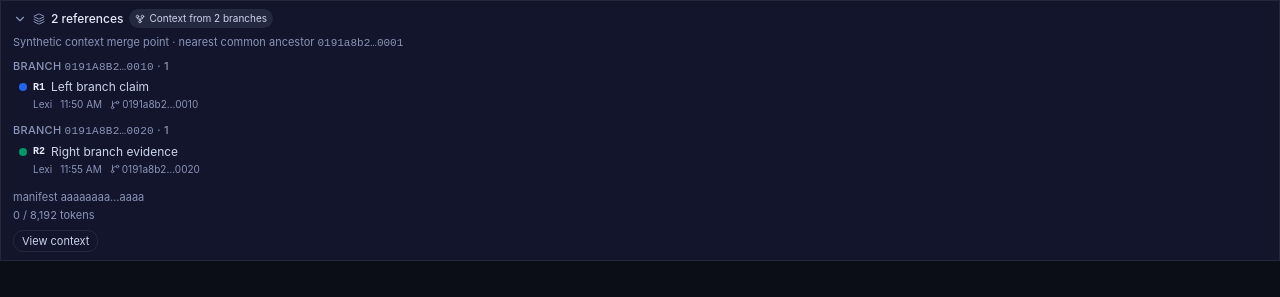
Test: ReferenceInspectorPanel — View context › fetches the provenance endpoint exactly once and renders its answer
Click the button with test id "reference-view-context". click: (56, 241)
box: [13,230,98,252]
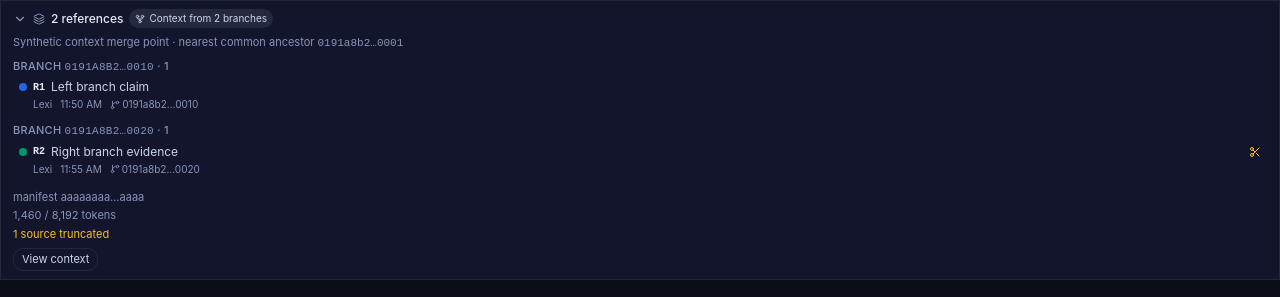
Now the text with test id "reference-token-allocation" reads "1,460 / 8,192 tokens", box [13,208,116,222]
Now the text with test id "reference-truncation-note" reads "1 source truncated", box [13,226,109,240]
